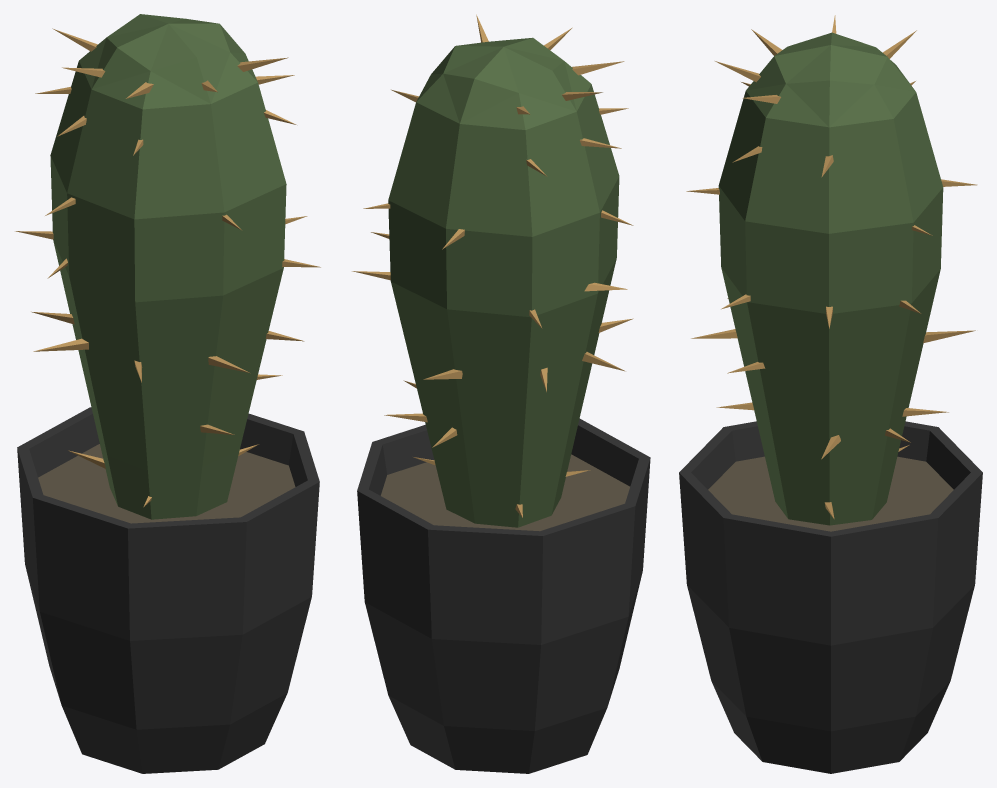
The model's file is houseplant_tall.fbx.
3 views of the same model, side by side, from view 1: azimuth 30°, elevation 25°; view 2: azimuth 150°, elevation 25°; view 3: azimuth 270°, elevation 25° (orthographic). The views are drawn at different scales.
Visible parts, largest first — view 1: houseplant_tall_LOD0; view 2: houseplant_tall_LOD0; view 3: houseplant_tall_LOD0.
Boxes of the visible parts, bbox=[...] form: houseplant_tall_LOD0: bbox=[15, 14, 320, 773]; houseplant_tall_LOD0: bbox=[352, 14, 650, 773]; houseplant_tall_LOD0: bbox=[679, 15, 982, 773].
Size of what is drawn, in the model's own units: 0.6082 by 1.5 by 0.6005.
1 material, 1 textured.
